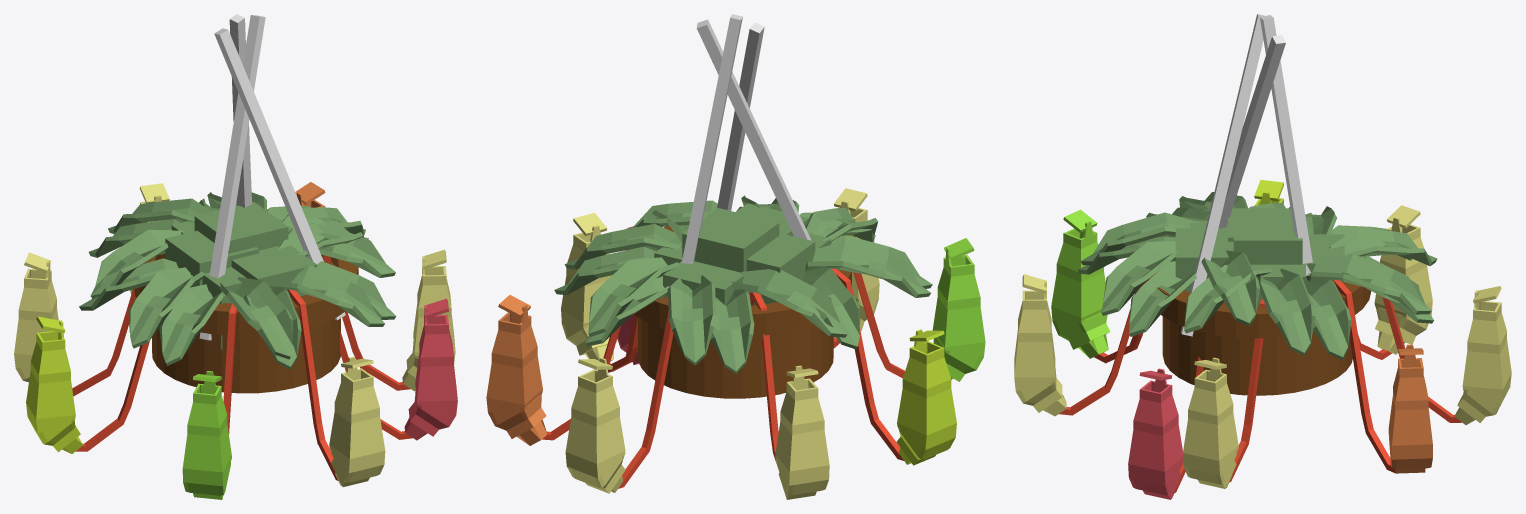
The model's file is HangingPlant.fbx.
3 renders of one model, left to right at view 1: azimuth 30°, elevation 25°; view 2: azimuth 150°, elevation 25°; view 3: azimuth 270°, elevation 25°, orthographic. The views are drawn at different scales.
Visible parts, largest first — view 1: Cylinder, Cube, Cube.007, Cube.003, Cube.004, Cube.022, Cube.024, Cube.012, Plane.005, Plane.006, Plane.004, Cube.016 (+22 smaller); view 2: Cylinder, Cube.011, Cube.007, Cube.015, Cube.012, Cube.004, Cube.016, Cube.023, Cube.024, Plane.014, Cube.008, Plane.013 (+19 smaller); view 3: Cylinder, Cube.004, Cube.008, Cube.003, Cube.015, Cube, Cube.011, Cube.022, Cube.012, Cube.016, Plane.010, Cube.023 (+21 smaller).
Part boxes in pixels (x1=…): Cylinder: x1=134, y1=254, x2=358, y2=393; Cube: x1=329, y1=356, x2=385, y2=486; Cube.007: x1=26, y1=316, x2=82, y2=453; Cube.003: x1=404, y1=298, x2=457, y2=440; Cube.004: x1=182, y1=371, x2=231, y2=499; Cube.022: x1=214, y1=28, x2=345, y2=320; Cube.024: x1=199, y1=15, x2=265, y2=340; Cube.012: x1=14, y1=252, x2=58, y2=382; Plane.005: x1=219, y1=277, x2=293, y2=359; Plane.006: x1=128, y1=267, x2=204, y2=348; Plane.004: x1=159, y1=284, x2=225, y2=365; Cube.016: x1=194, y1=202, x2=288, y2=253; Cylinder: x1=625, y1=226, x2=851, y2=398; Cube.011: x1=486, y1=295, x2=547, y2=445; Cube.007: x1=896, y1=329, x2=956, y2=465; Cube.015: x1=565, y1=357, x2=625, y2=493; Cube.012: x1=775, y1=365, x2=829, y2=499; Cube.004: x1=932, y1=238, x2=985, y2=381; Cube.016: x1=682, y1=208, x2=779, y2=272; Cube.023: x1=681, y1=14, x2=742, y2=263; Cube.024: x1=696, y1=19, x2=811, y2=240; Plane.014: x1=667, y1=275, x2=716, y2=365; Cube.008: x1=561, y1=212, x2=617, y2=361; Plane.013: x1=732, y1=269, x2=847, y2=337; Cylinder: x1=1145, y1=270, x2=1371, y2=395; Cube.004: x1=1051, y1=209, x2=1110, y2=358; Cube.008: x1=1183, y1=357, x2=1238, y2=488; Cube.003: x1=1128, y1=368, x2=1183, y2=499; Cube.015: x1=1454, y1=286, x2=1511, y2=424; Cube: x1=1014, y1=274, x2=1066, y2=416; Cube.011: x1=1388, y1=344, x2=1432, y2=473; Cube.022: x1=1180, y1=14, x2=1264, y2=336; Cube.012: x1=1374, y1=205, x2=1432, y2=354; Cube.016: x1=1233, y1=211, x2=1302, y2=264; Plane.010: x1=1306, y1=254, x2=1431, y2=314; Cube.023: x1=1260, y1=15, x2=1312, y2=279.
Bounding box in the file's own units: 1349 × 1338 × 1441.
